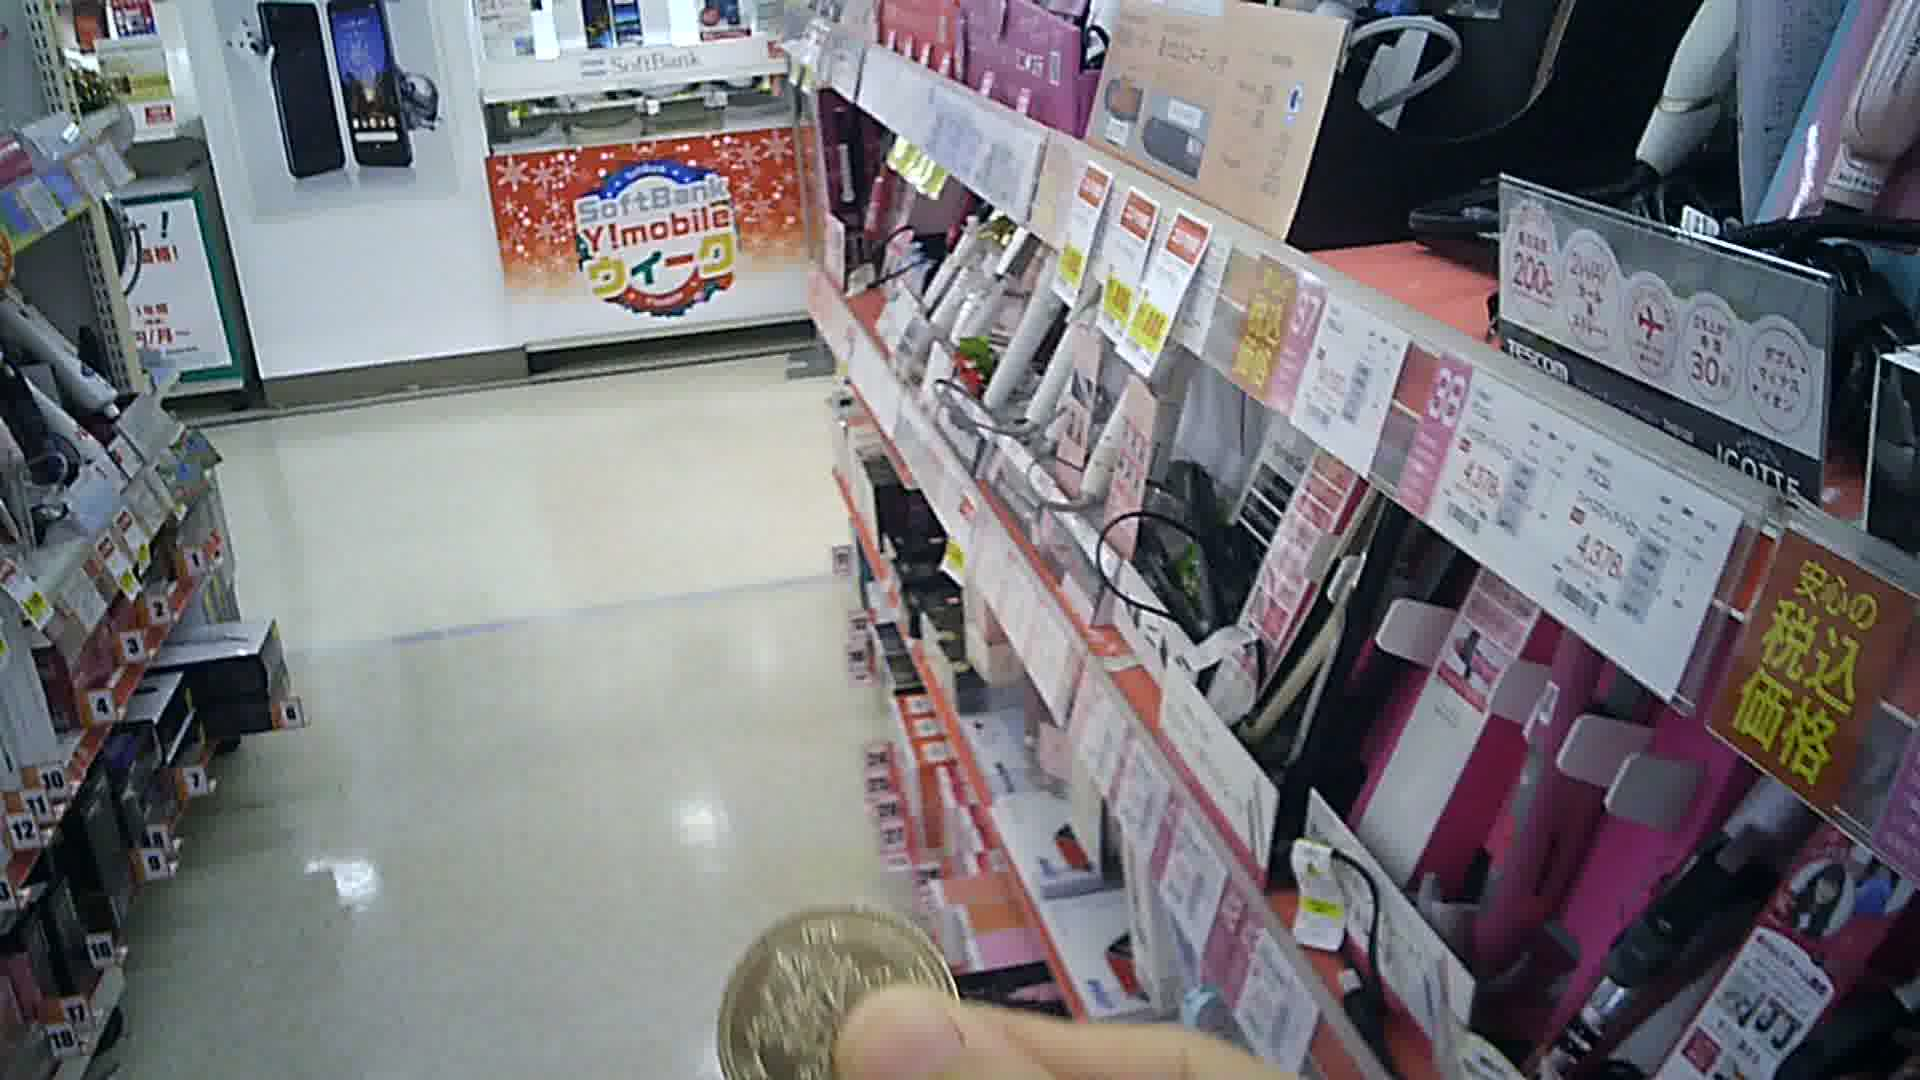500 Yen: (709, 895, 968, 1077)
